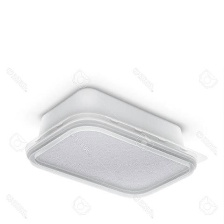plastic_box: (18, 78, 203, 204)
